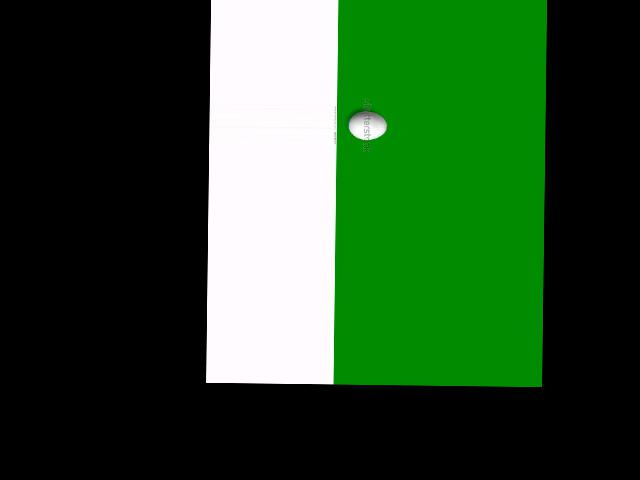egg: (348, 111, 386, 140)
